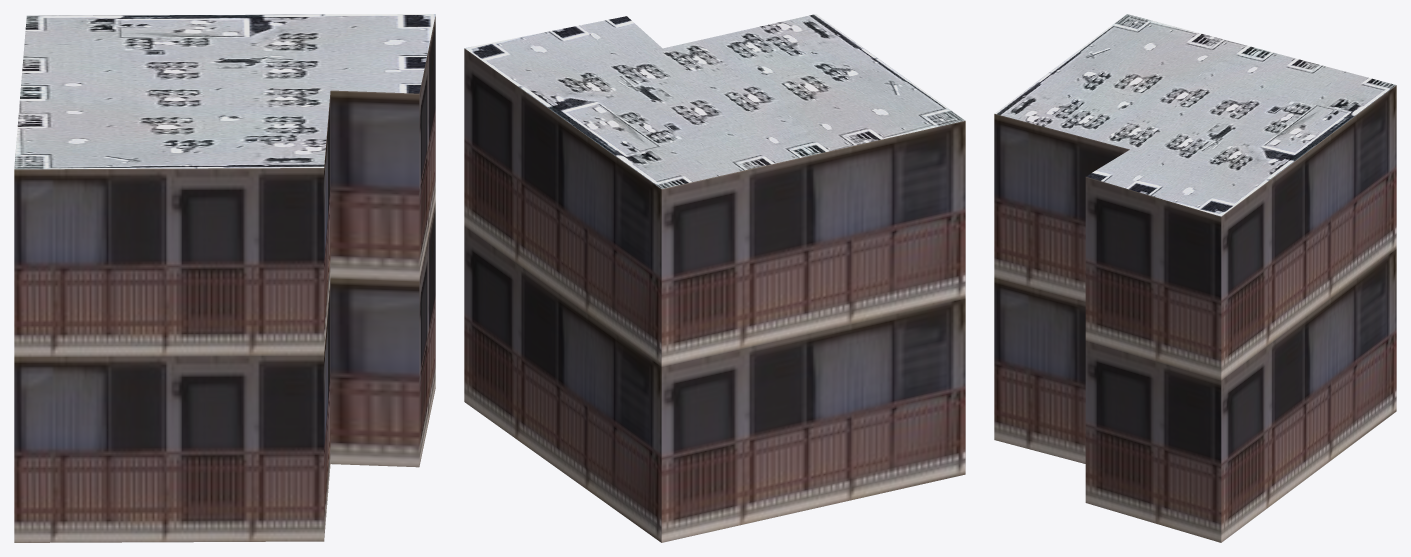
The model's file is ResTex__2735.fbx.
3 renders of one model, left to right at view 1: azimuth 30°, elevation 25°; view 2: azimuth 150°, elevation 25°; view 3: azimuth 270°, elevation 25°, orthographic. The views are drawn at different scales.
Visible parts, largest first — view 1: CityEngineMaterial_6_m, CityEngineMaterial_4_m; view 2: CityEngineMaterial_6_m, CityEngineMaterial_4_m; view 3: CityEngineMaterial_6_m, CityEngineMaterial_4_m.
Part boxes in pixels (x1=…): CityEngineMaterial_6_m: x1=14, y1=16, x2=435, y2=542; CityEngineMaterial_4_m: x1=14, y1=14, x2=435, y2=169; CityEngineMaterial_6_m: x1=464, y1=48, x2=965, y2=542; CityEngineMaterial_4_m: x1=464, y1=14, x2=965, y2=188; CityEngineMaterial_6_m: x1=994, y1=85, x2=1396, y2=542; CityEngineMaterial_4_m: x1=994, y1=14, x2=1396, y2=216.
Size of the model in its own units: 7.99 by 6 by 6.7.
Materials: 2 (2 with a texture image).
